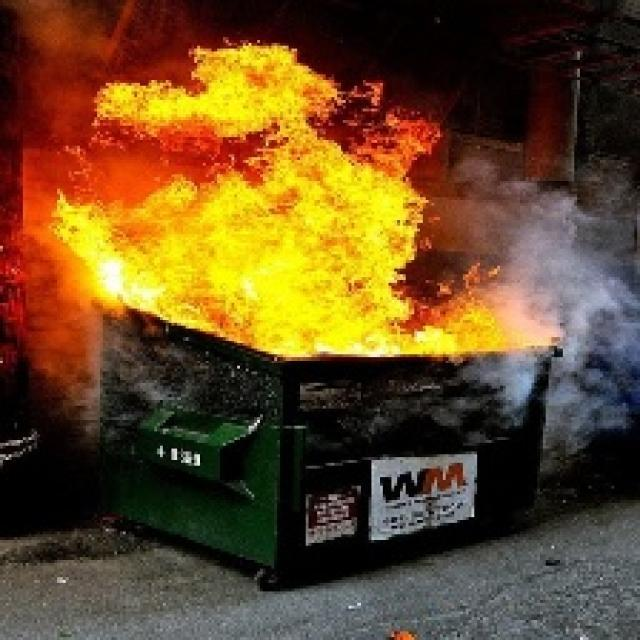Fire: (53, 41, 496, 356)
Smoke: (500, 176, 640, 434)
